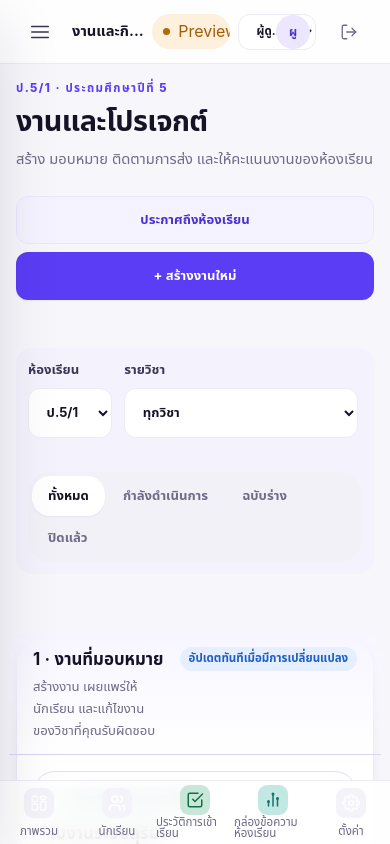
dialogs › close on Escape, wherever the key was pressed
Click the button "+ สร้างงานใหม่". click: {"x": 195, "y": 276}
box: [16, 252, 374, 300]
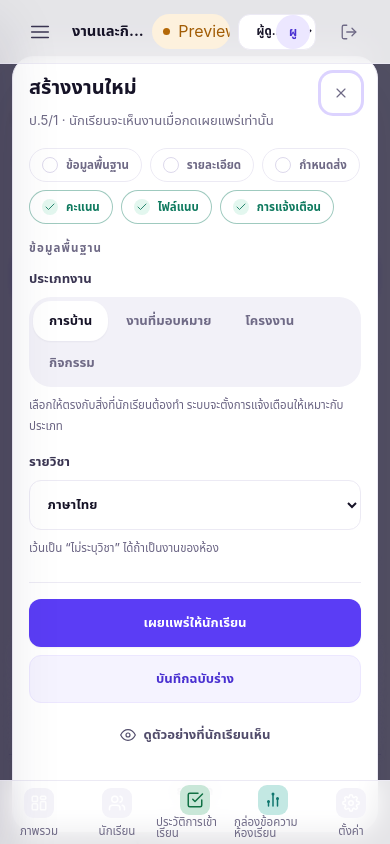
Press Escape
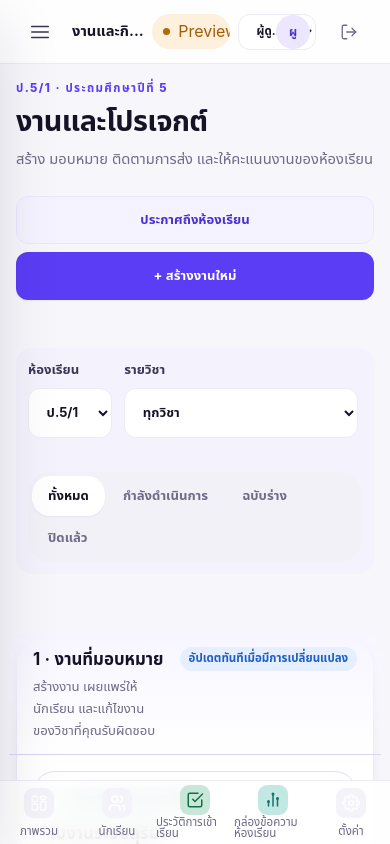
Expected: the dialog is gone
